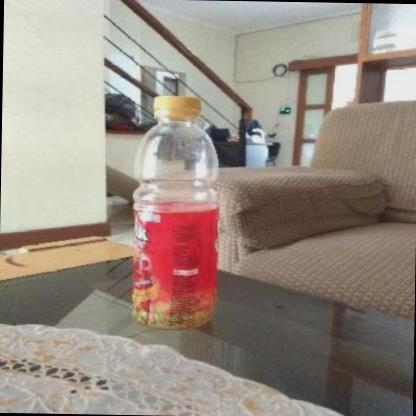plastic_bottles: (126, 94, 226, 334)
